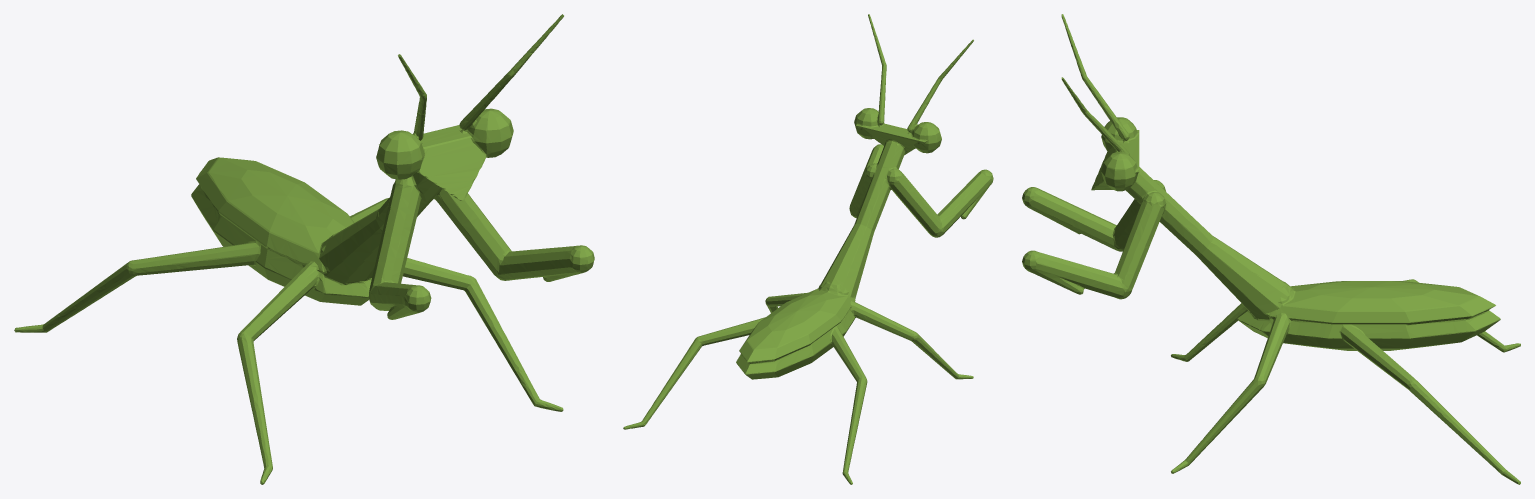
The model's file is NEW_RECOVERY_052_LOD0.glb.
The picture shows the model from 3 angles, left to right: view 1: azimuth 30°, elevation 25°; view 2: azimuth 150°, elevation 25°; view 3: azimuth 270°, elevation 25°; orthographic projection. The views are drawn at different scales.
Parts seen in each view (by area): view 1: Mantis_whole_solid; view 2: Mantis_whole_solid; view 3: Mantis_whole_solid.
Boxes of the visible parts, x1,y1,x2,y2 form: Mantis_whole_solid: (14, 14, 594, 484); Mantis_whole_solid: (623, 14, 993, 484); Mantis_whole_solid: (1022, 14, 1520, 484).
Bounding box in the file's own units: 2.81 × 3.48 × 4.25.
